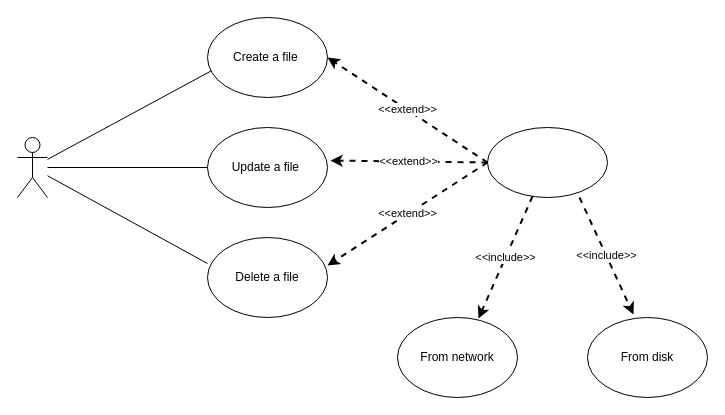
The diagram is 725 pixels wide and 415 high, and some of its shapes have lost their labels. Each missing label, with the centre of its shape:
Synchronize a folder: the point at 547,162
User: the point at 32,167
